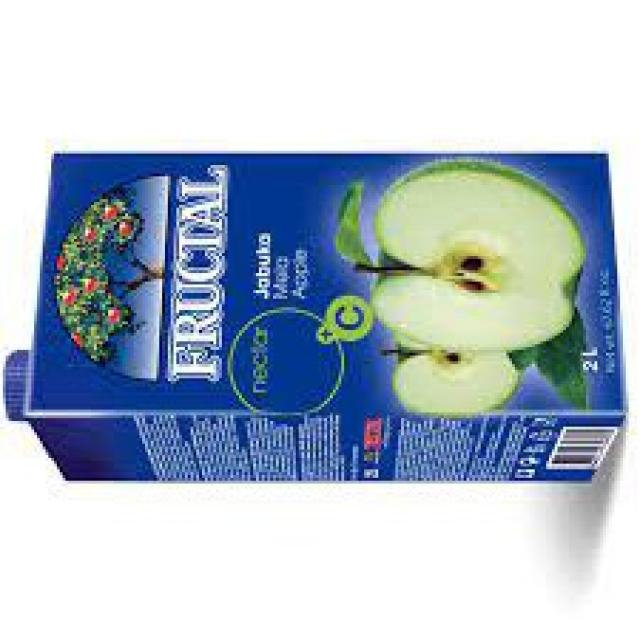non_white_jug: (0, 146, 631, 488)
